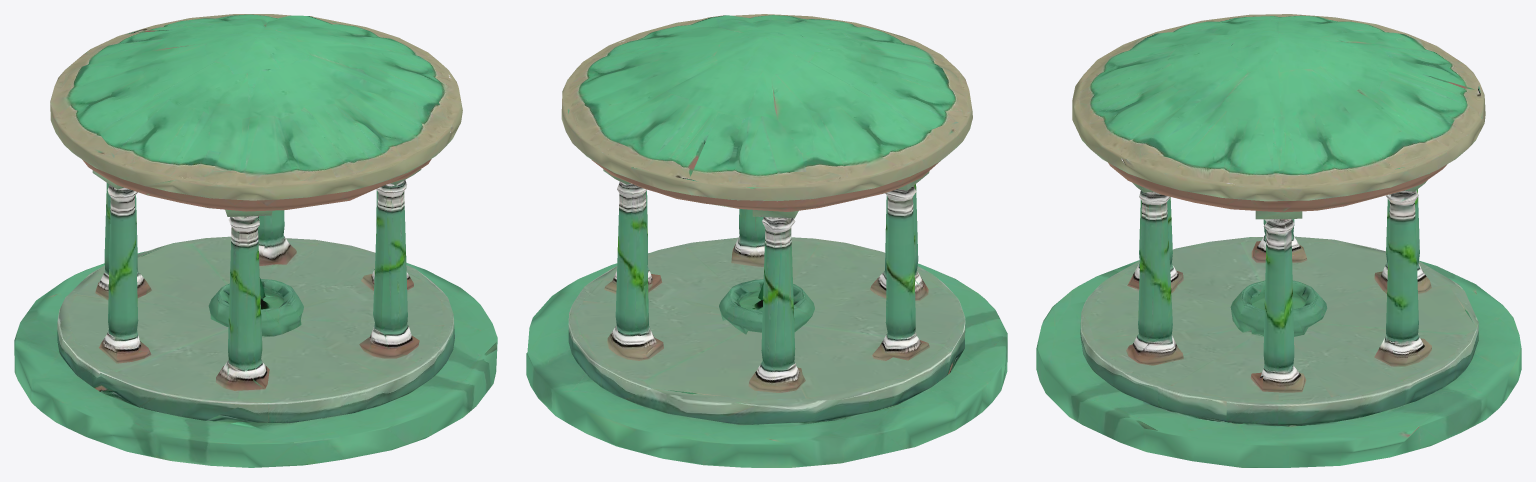
Rendered from temple_jungle.glb.
3 renders of one model, left to right at view 1: azimuth 30°, elevation 25°; view 2: azimuth 150°, elevation 25°; view 3: azimuth 270°, elevation 25°, orthographic.
Size of the model in its own units: 2 by 1.5 by 2.
Materials: 1 (1 with a texture image).
